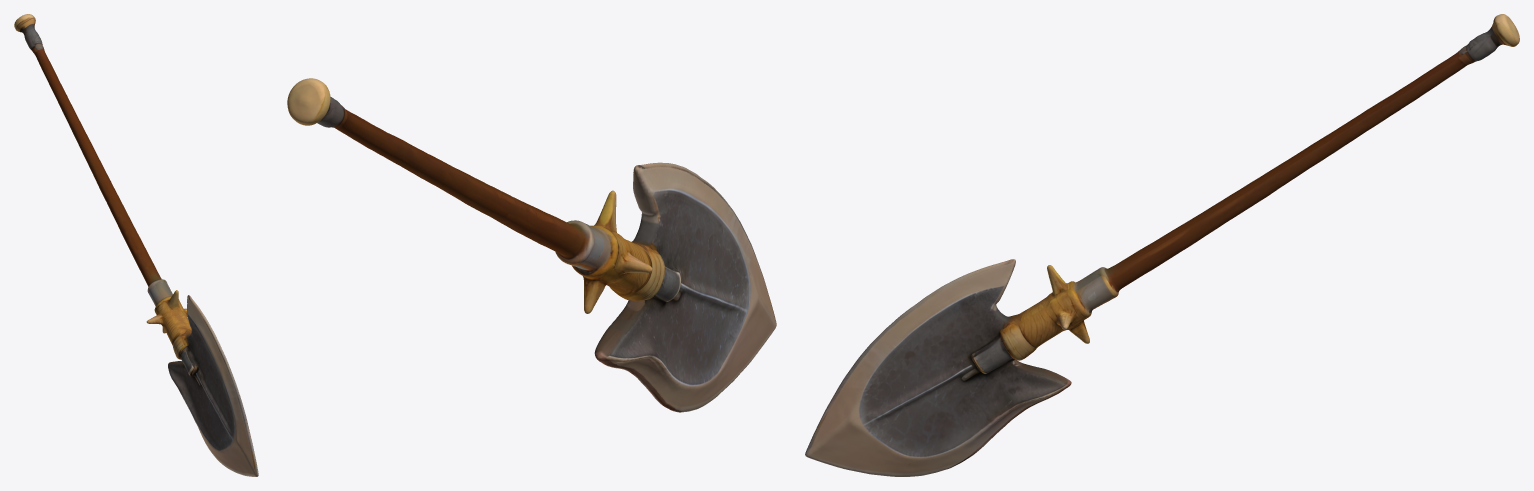
The model's file is halberd.glb.
The picture shows the model from 3 angles, left to right: view 1: azimuth 30°, elevation 25°; view 2: azimuth 150°, elevation 25°; view 3: azimuth 270°, elevation 25°; orthographic projection. The views are drawn at different scales.
Visible parts, largest first — view 1: tripo_node_bb272f92-ec9b-4226-bafa-54b41576d579; view 2: tripo_node_bb272f92-ec9b-4226-bafa-54b41576d579; view 3: tripo_node_bb272f92-ec9b-4226-bafa-54b41576d579.
Boxes of the visible parts, box(x1,y1,x2,y2) form: tripo_node_bb272f92-ec9b-4226-bafa-54b41576d579: box(14, 14, 258, 476); tripo_node_bb272f92-ec9b-4226-bafa-54b41576d579: box(287, 78, 776, 412); tripo_node_bb272f92-ec9b-4226-bafa-54b41576d579: box(805, 14, 1519, 476).
Size of the model in its own units: 0.1149 by 0.6745 by 0.9473.
Materials: 1 (1 with a texture image).
